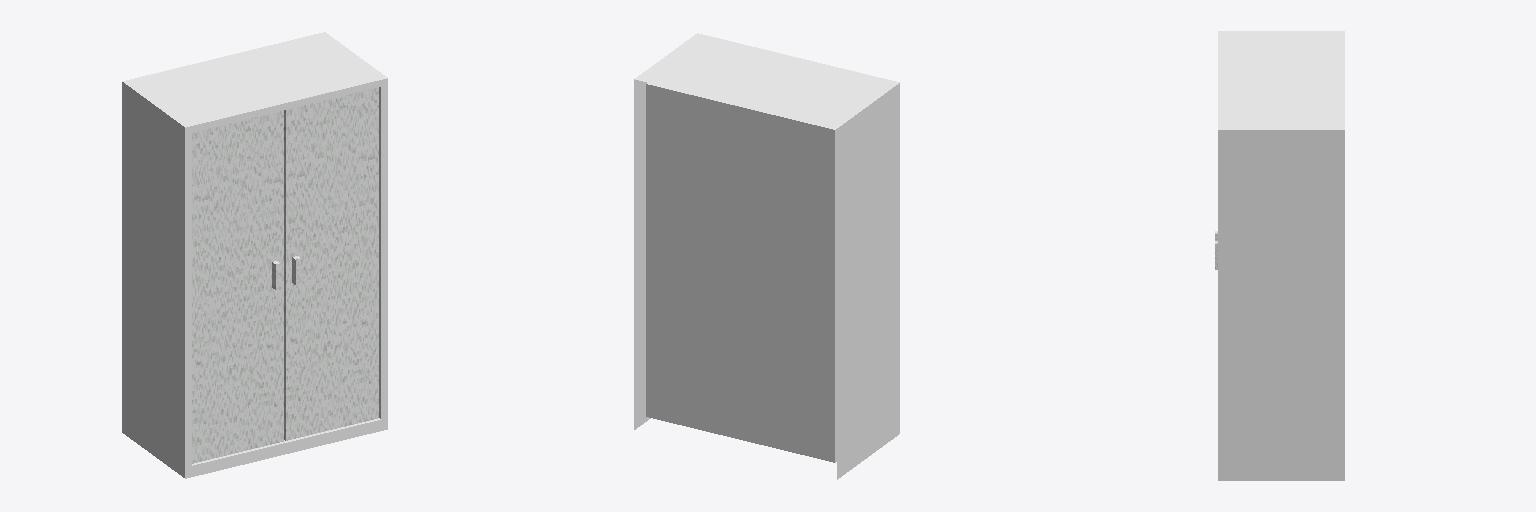
The picture shows the model from 3 angles: view 1: azimuth 30°, elevation 25°; view 2: azimuth 150°, elevation 25°; view 3: azimuth 270°, elevation 25°; orthographic projection.
Visible parts, largest first — view 1: MED_OFFICE_UNIT_7; view 2: MED_OFFICE_UNIT_7; view 3: MED_OFFICE_UNIT_7.
Boxes of the visible parts, x1,y1,x2,y2 form: MED_OFFICE_UNIT_7: [122, 32, 387, 478]; MED_OFFICE_UNIT_7: [634, 33, 899, 479]; MED_OFFICE_UNIT_7: [1215, 31, 1344, 480].
Size of the model in its own units: 0.9167 by 1.52 by 0.5066.
2 materials, 1 textured.